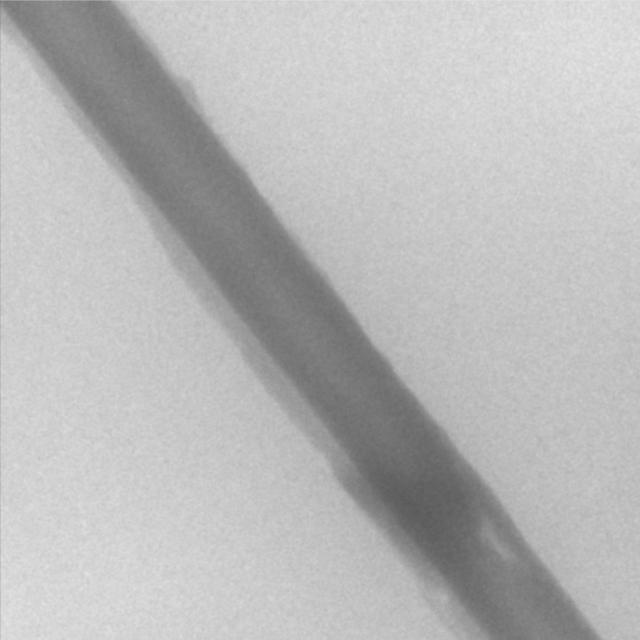unfused: (478, 517, 515, 558)
